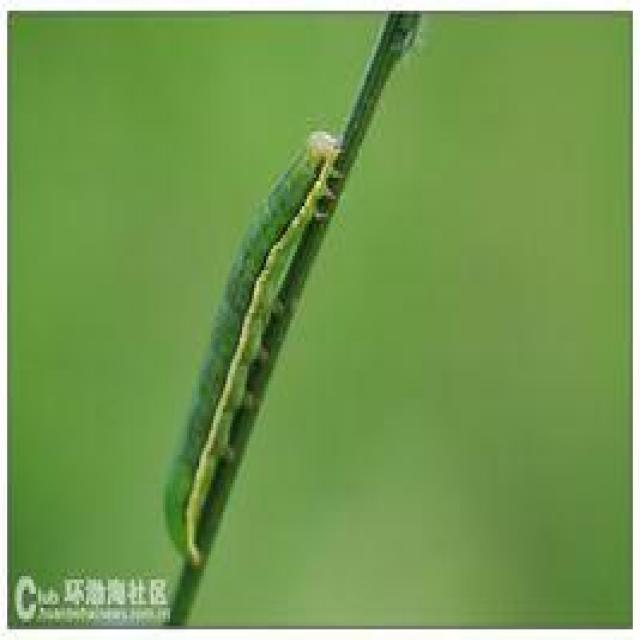BeetArmyWorm-Larva-: (167, 112, 350, 582)
